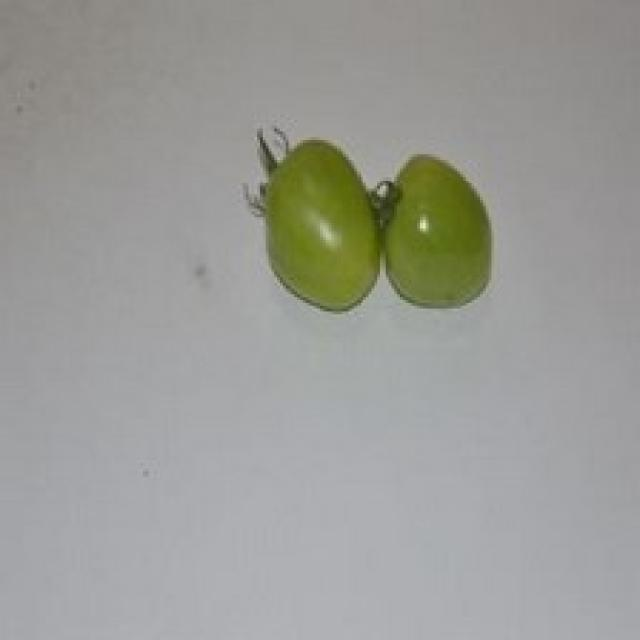unripe tomato: (198, 90, 526, 350)
